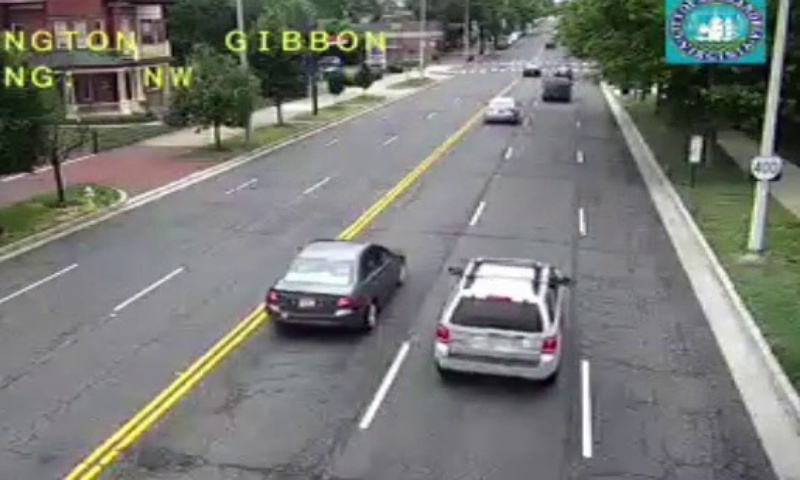car: (432, 255, 561, 382), (266, 238, 407, 330), (482, 96, 519, 123)
